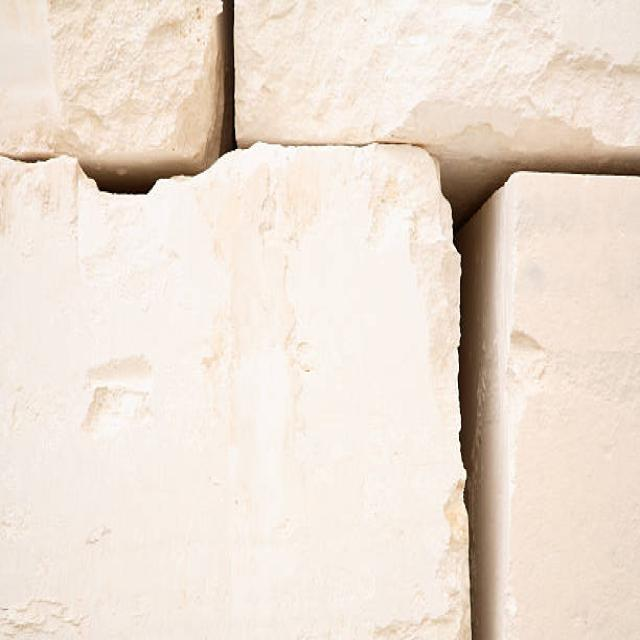Sedimentary: (1, 3, 636, 634)
